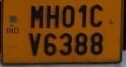character: (29, 4, 43, 29), (61, 4, 75, 28), (58, 32, 72, 56), (46, 4, 59, 29), (89, 4, 102, 28), (27, 32, 40, 56), (43, 32, 56, 56), (74, 32, 87, 55), (90, 32, 103, 55), (78, 4, 86, 28)
